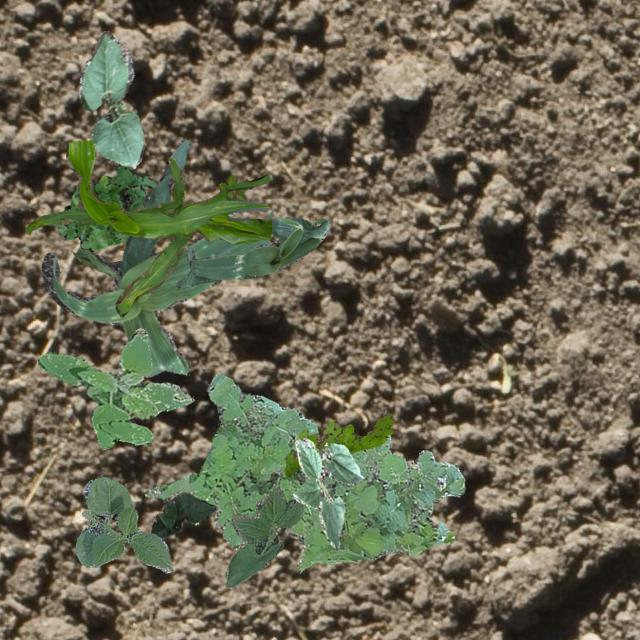crop: (40, 138, 268, 376), (25, 140, 271, 316), (175, 216, 328, 286), (75, 476, 172, 572), (78, 30, 144, 168), (224, 486, 302, 588), (292, 438, 362, 548), (150, 492, 214, 536)
weed: (144, 372, 464, 570), (36, 327, 192, 448), (56, 164, 156, 250), (284, 412, 392, 476), (218, 174, 248, 200)
